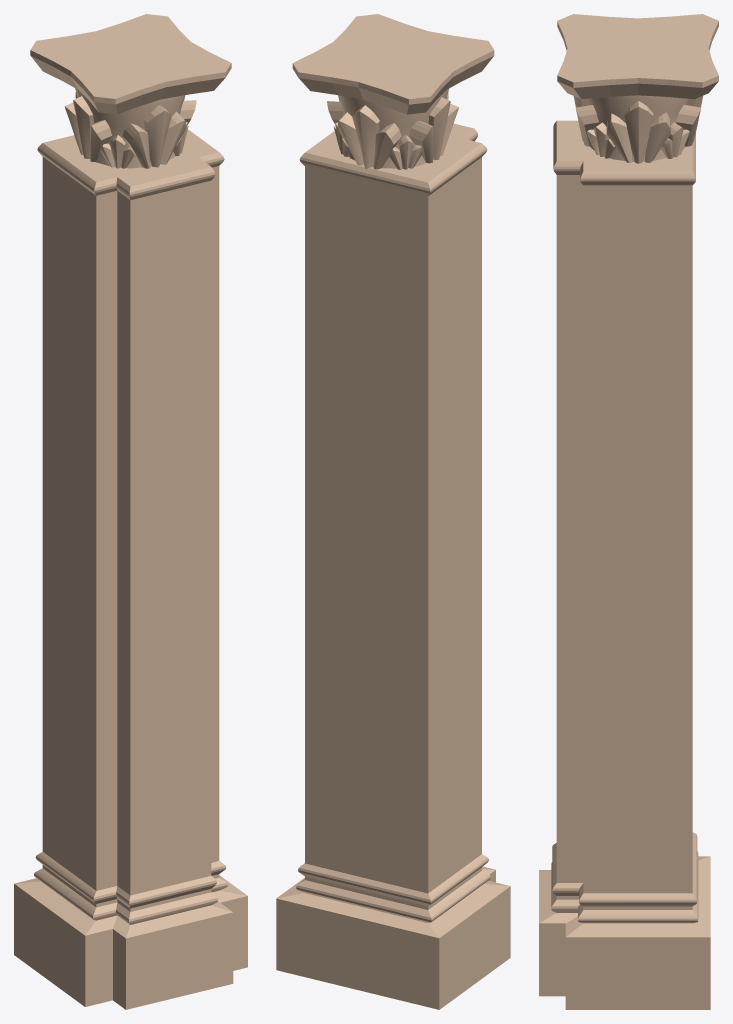
Rendered from BC_InsidePillar_D.fbx.
3 renders of one model, left to right at view 1: azimuth 30°, elevation 25°; view 2: azimuth 150°, elevation 25°; view 3: azimuth 270°, elevation 25°, orthographic.
Visible parts, largest first — view 1: BC_InsidePillar_D; view 2: BC_InsidePillar_D; view 3: BC_InsidePillar_D.
Boxes of the visible parts, x1,y1,x2,y2 form: BC_InsidePillar_D: [14, 14, 247, 1009]; BC_InsidePillar_D: [276, 14, 510, 1009]; BC_InsidePillar_D: [539, 14, 718, 1009].
Size of the model in its own units: 175 by 930 by 165.
